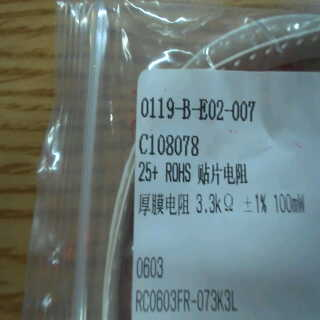3.3kO: (194, 192, 240, 217)
